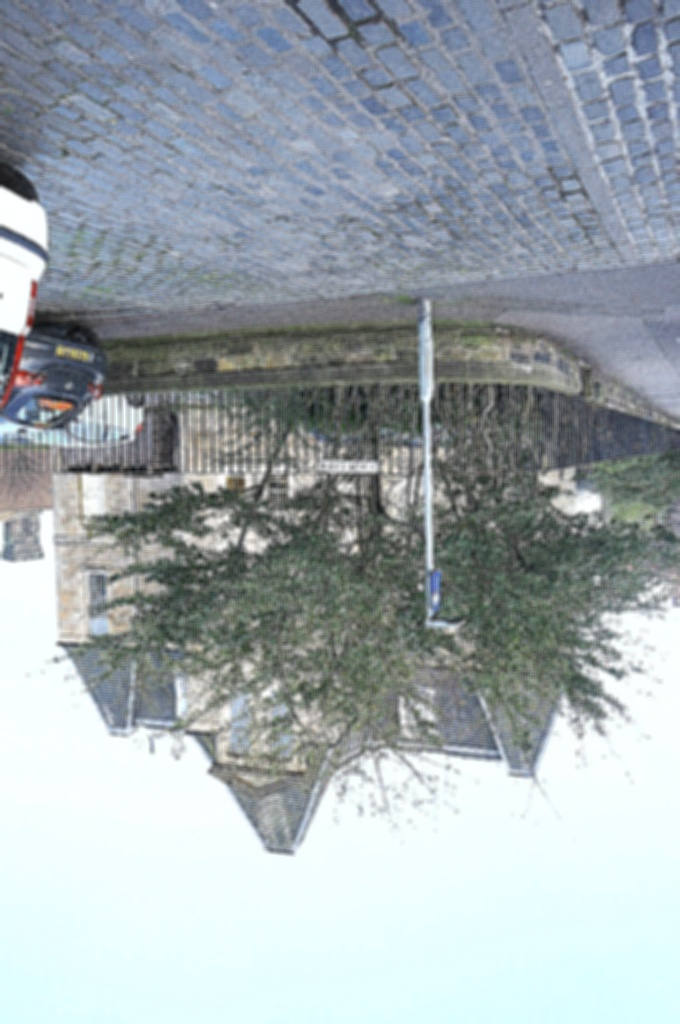Tree: (53, 290, 679, 855)
